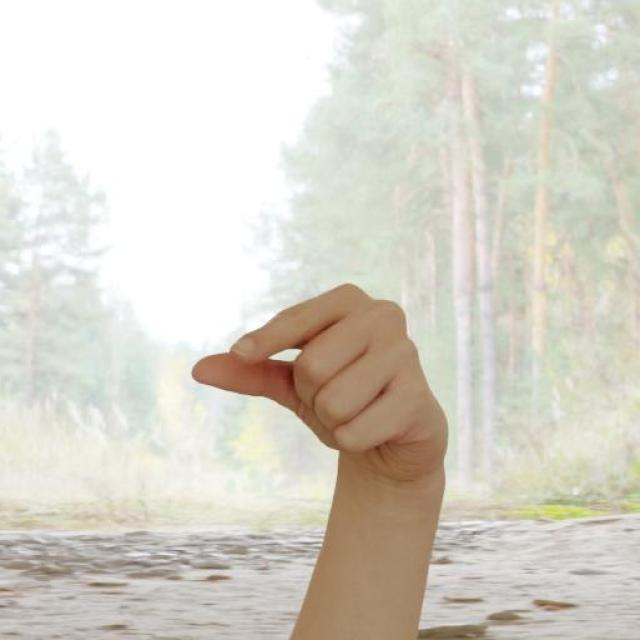G: (192, 278, 450, 500)
